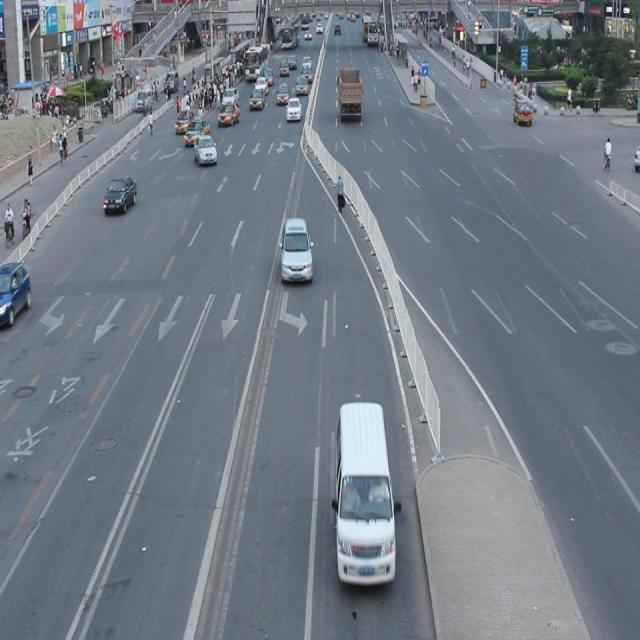car: (0, 262, 32, 328), (279, 218, 312, 282), (103, 173, 139, 216), (194, 133, 217, 168)
truck: (333, 401, 396, 583)
